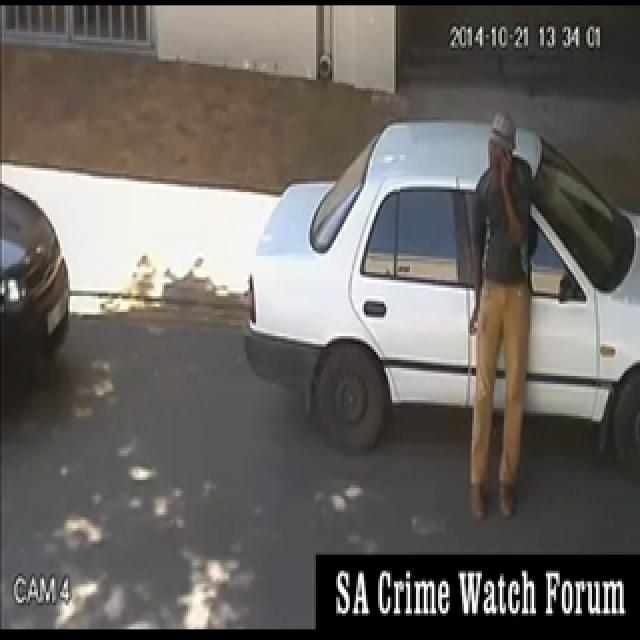stealing: (291, 106, 620, 566)
